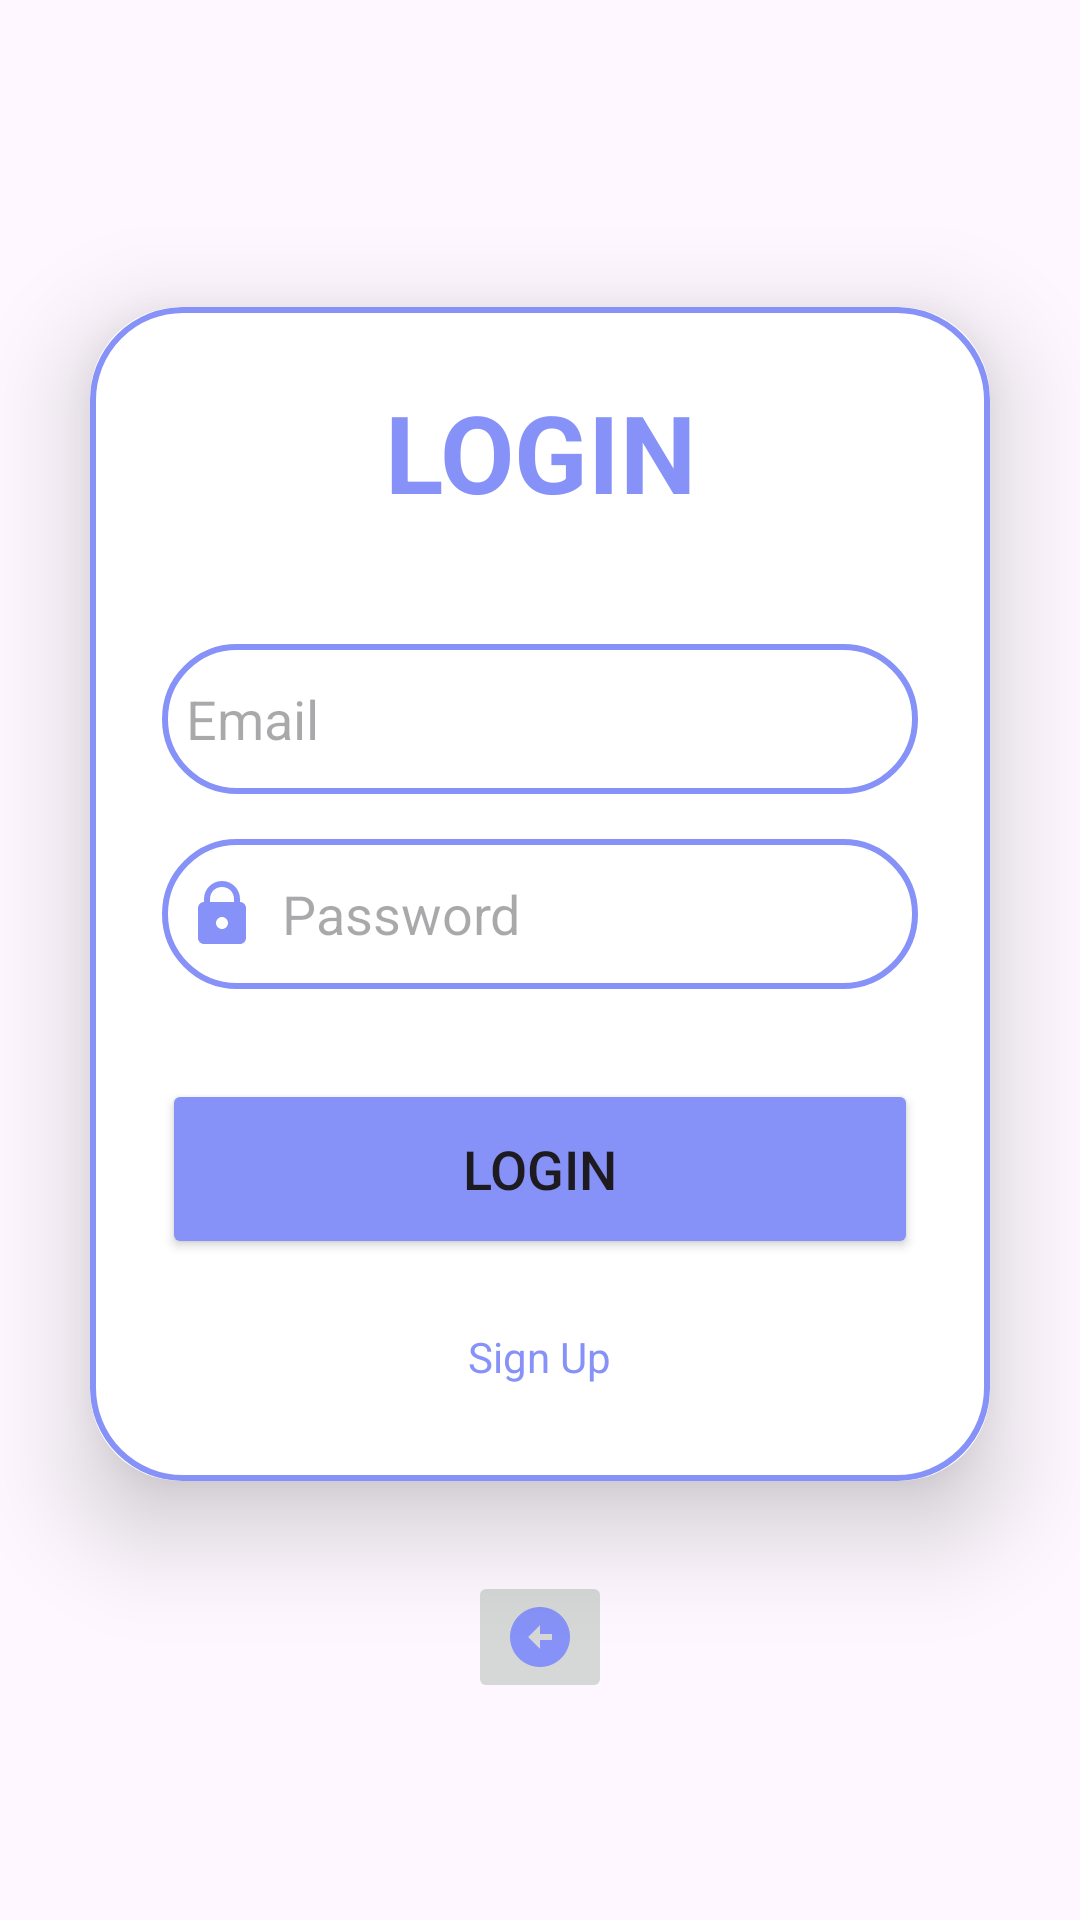

Where icons sit on this 1080×1920 app screen, as (x1, y1, x2, y2):
arrow circle left: (480, 1589, 600, 1685)
